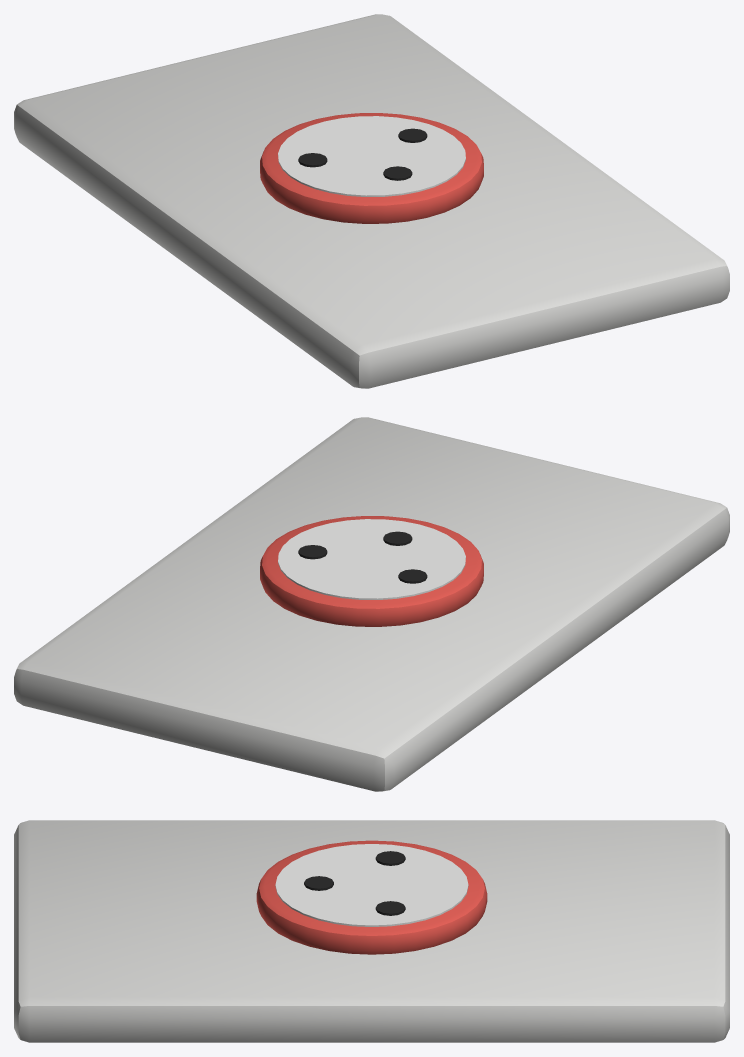
File: ELE-TOM-002.glb
The picture shows the model from 3 angles, top to bottom: view 1: azimuth 30°, elevation 25°; view 2: azimuth 150°, elevation 25°; view 3: azimuth 270°, elevation 25°; orthographic projection. The views are drawn at different scales.
Visible parts, largest first — view 1: ELE-TOM-002_placa, ELE-TOM-002_rebaixo, ELE-TOM-002_modulo; view 2: ELE-TOM-002_placa, ELE-TOM-002_rebaixo, ELE-TOM-002_modulo; view 3: ELE-TOM-002_placa, ELE-TOM-002_rebaixo, ELE-TOM-002_modulo, ELE-TOM-002_pino0-0.0085, ELE-TOM-002_pino0.00950.003, ELE-TOM-002_pino-0.00950.003.
Part boxes in pixels (x1,y1,x2,y2): ELE-TOM-002_placa: [14, 14, 729, 388]; ELE-TOM-002_rebaixo: [278, 116, 465, 196]; ELE-TOM-002_modulo: [260, 113, 483, 223]; ELE-TOM-002_placa: [14, 417, 729, 791]; ELE-TOM-002_rebaixo: [278, 519, 465, 599]; ELE-TOM-002_modulo: [260, 516, 483, 626]; ELE-TOM-002_placa: [14, 820, 729, 1042]; ELE-TOM-002_rebaixo: [275, 844, 468, 926]; ELE-TOM-002_modulo: [256, 840, 487, 954]; ELE-TOM-002_pino0-0.0085: [304, 876, 333, 890]; ELE-TOM-002_pino0.00950.003: [375, 901, 405, 915]; ELE-TOM-002_pino-0.00950.003: [375, 851, 405, 865].
Size of the model in its own units: 0.072 by 0.0127 by 0.115.
